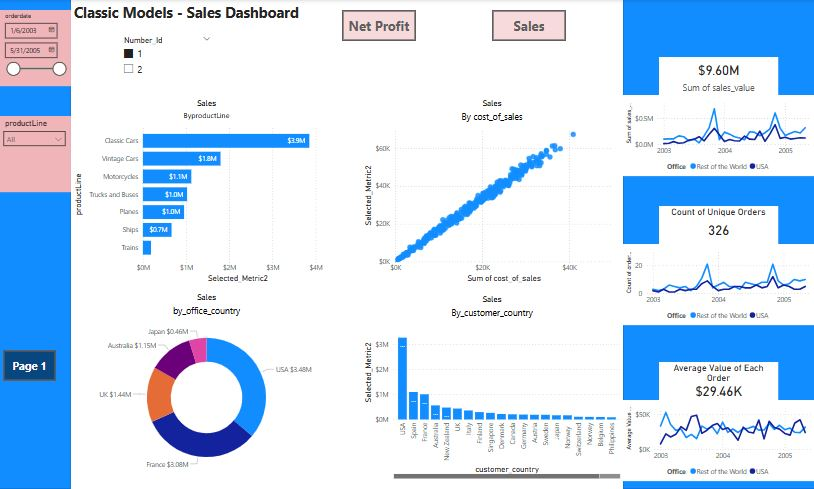

Layout of this report page (visuals, bound fields, positions):
{"tool":"powerbi","page":{"name":"SalesDashboard","canvas":[1500,900],"ordinal":1},"visuals":[{"type":"shape","box":[0,0,115.7,900],"z":0},{"type":"shape","box":[1148,0,352.7,900],"z":1000},{"type":"shape","box":[1148,176.3,352.7,148.8],"z":2000},{"type":"shape","box":[1148,736.5,352.7,145.1],"z":3000},{"type":"shape","box":[1148,450,352.7,145.1],"z":4000},{"type":"card","title":"Total Sales","fields":{"Values":["Sum(Sales Data for Power BI.sales_value)"]},"box":[1214.1,106.5,218.6,69.8],"z":5000},{"type":"card","title":"Count of Unique Orders","fields":{"Values":["Count(Sales Data for Power BI.ordernumber)"]},"box":[1214.1,380.2,218.6,69.8],"z":6000},{"type":"card","title":"Average Value of Each Order","fields":{"Values":["Sales Data for Power BI.Average Sales Value Per Order"]},"box":[1214.1,666.7,218.6,69.8],"z":7000},{"type":"lineChart","fields":{"Y":["Sum(Sales Data for Power BI.sales_value)"],"Category":["Sales Data for Power BI.orderdate.Variation.Date Hierarchy.Year","Sales Data for Power BI.orderdate.Variation.Date Hierarchy.Quarter","Sales Data for Power BI.orderdate.Variation.Date Hierarchy.Month"],"Series":["Sales Data for Power BI.office_country (groups)"]},"box":[1148,176.3,352.7,148.8],"z":8000},{"type":"lineChart","fields":{"Y":["Count(Sales Data for Power BI.ordernumber)"],"Category":["Sales Data for Power BI.orderdate.Variation.Date Hierarchy.Year","Sales Data for Power BI.orderdate.Variation.Date Hierarchy.Quarter","Sales Data for Power BI.orderdate.Variation.Date Hierarchy.Month"],"Series":["Sales Data for Power BI.office_country (groups)"]},"box":[1148,450,352.7,148.8],"z":9000},{"type":"lineChart","fields":{"Y":["Sales Data for Power BI.Average Value of Each Order"],"Category":["Sales Data for Power BI.orderdate.Variation.Date Hierarchy.Year","Sales Data for Power BI.orderdate.Variation.Date Hierarchy.Quarter","Sales Data for Power BI.orderdate.Variation.Date Hierarchy.Month"],"Series":["Sales Data for Power BI.office_country (groups)"]},"box":[1148,736.5,352.7,148.8],"z":10000},{"type":"clusteredBarChart","fields":{"Y":["Table.Selected_Metric2"],"Category":["Sales Data for Power BI.productLine"]},"box":[134.1,183.7,497.8,341.6],"z":11000},{"type":"actionButton","title":"Net Profit","box":[631.8,20.2,135.9,56.9],"z":11500},{"type":"actionButton","title":"Sales","box":[907.3,20.2,135.9,56.9],"z":12000},{"type":"slicer","fields":{"Values":["Table.Number_Id"]},"box":[218.7,61.9,183.4,88.4],"z":14000},{"type":"donutChart","fields":{"Y":["Table.Selected_Metric2"],"Category":["Sales Data for Power BI.office_country"]},"box":[134.1,540,497.8,341.6],"z":15000},{"type":"scatterChart","fields":{"X":["Sum(Sales Data for Power BI.cost_of_sales)"],"Category":["Sales Data for Power BI.ordernumber"],"Y":["Table.Selected_Metric2"]},"box":[666.7,183.7,481.2,341.6],"z":16000},{"type":"columnChart","fields":{"Y":["Table.Selected_Metric2"],"Category":["Sales Data for Power BI.customer_country"]},"box":[666.7,543.7,481.2,341.6],"z":17000},{"type":"textbox","box":[114.9,0,455.1,48.6],"z":18000},{"type":"actionButton","title":"Sales","box":[9.2,644.7,97.3,56.9],"z":19000},{"type":"slicer","fields":{"Values":["Sales Data for Power BI.orderdate"]},"box":[0,20.2,115.7,139.6],"z":20000},{"type":"slicer","fields":{"Values":["Sales Data for Power BI.productLine"]},"box":[0,214.9,115.7,139.6],"z":21000}]}

Visuals, with their boxes in screenshot pixels (x1, y1, x2, y2), scaled from the page's 1500x900 canvas onto the 814x489 screenshot:
shape: bbox(0, 0, 63, 488)
shape: bbox(623, 0, 813, 488)
shape: bbox(623, 96, 813, 177)
shape: bbox(623, 400, 813, 479)
shape: bbox(623, 244, 813, 323)
"Total Sales" card: bbox(659, 58, 777, 96)
"Count of Unique Orders" card: bbox(659, 207, 777, 244)
"Average Value of Each Order" card: bbox(659, 362, 777, 400)
lineChart - Sum(Sales Data for Power BI.sales_value) x Sales Data for Power BI.orderdate.Variation.Date Hierarchy.Year: bbox(623, 96, 813, 177)
lineChart - Count(Sales Data for Power BI.ordernumber) x Sales Data for Power BI.orderdate.Variation.Date Hierarchy.Year: bbox(623, 244, 813, 325)
lineChart - Sales Data for Power BI.Average Value of Each Order x Sales Data for Power BI.orderdate.Variation.Date Hierarchy.Year: bbox(623, 400, 813, 481)
clusteredBarChart - Table.Selected_Metric2 x Sales Data for Power BI.productLine: bbox(73, 100, 343, 285)
"Net Profit" actionButton: bbox(343, 11, 417, 42)
"Sales" actionButton: bbox(492, 11, 566, 42)
slicer - Table.Number_Id: bbox(119, 34, 218, 82)
donutChart - Table.Selected_Metric2 x Sales Data for Power BI.office_country: bbox(73, 293, 343, 479)
scatterChart - Sum(Sales Data for Power BI.cost_of_sales) x Sales Data for Power BI.ordernumber: bbox(362, 100, 623, 285)
columnChart - Table.Selected_Metric2 x Sales Data for Power BI.customer_country: bbox(362, 295, 623, 481)
textbox: bbox(62, 0, 309, 26)
"Sales" actionButton: bbox(5, 350, 58, 381)
slicer - Sales Data for Power BI.orderdate: bbox(0, 11, 63, 87)
slicer - Sales Data for Power BI.productLine: bbox(0, 117, 63, 193)
